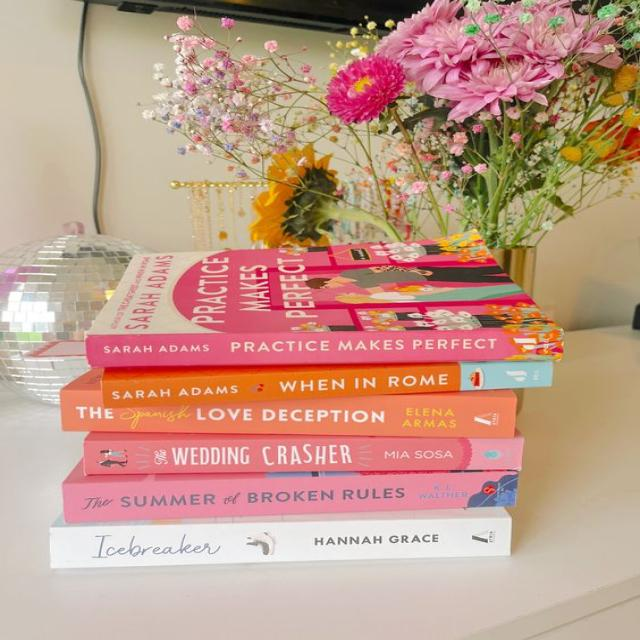book: (62, 463, 517, 523), (50, 510, 511, 569), (103, 360, 553, 407), (61, 391, 513, 437), (82, 433, 521, 475), (87, 331, 562, 366)
flowers: (145, 0, 639, 249)
